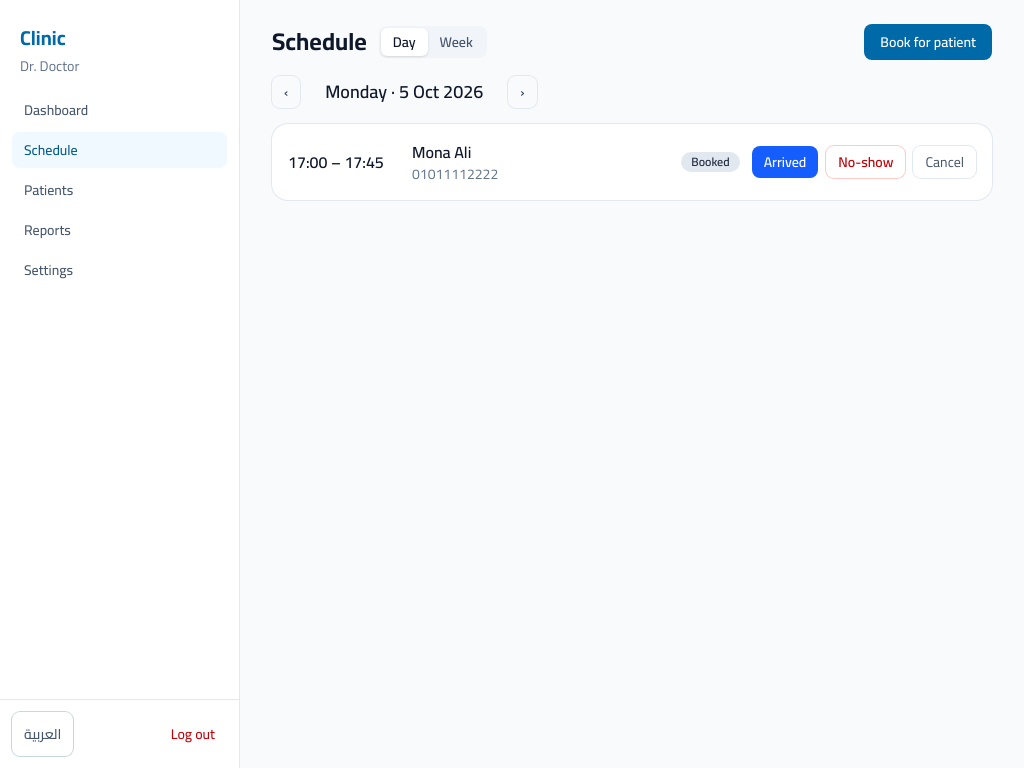
Test: Schedule: day view › checks a patient in and the badge turns blue
The image size is (1024, 768).
Click the button "Arrived" at (785, 162), box [752,146,818,178]
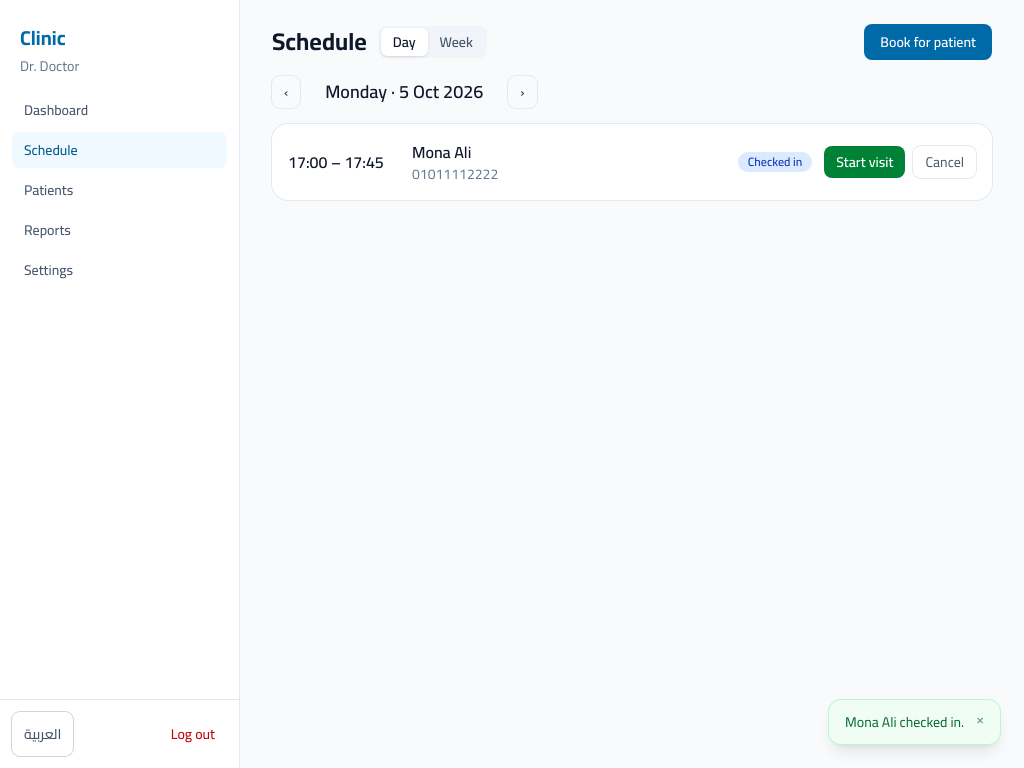
Expected: the text "Mona Ali checked in." is shown, [845,712,964,732]
Expected: the button "Arrived" is gone
